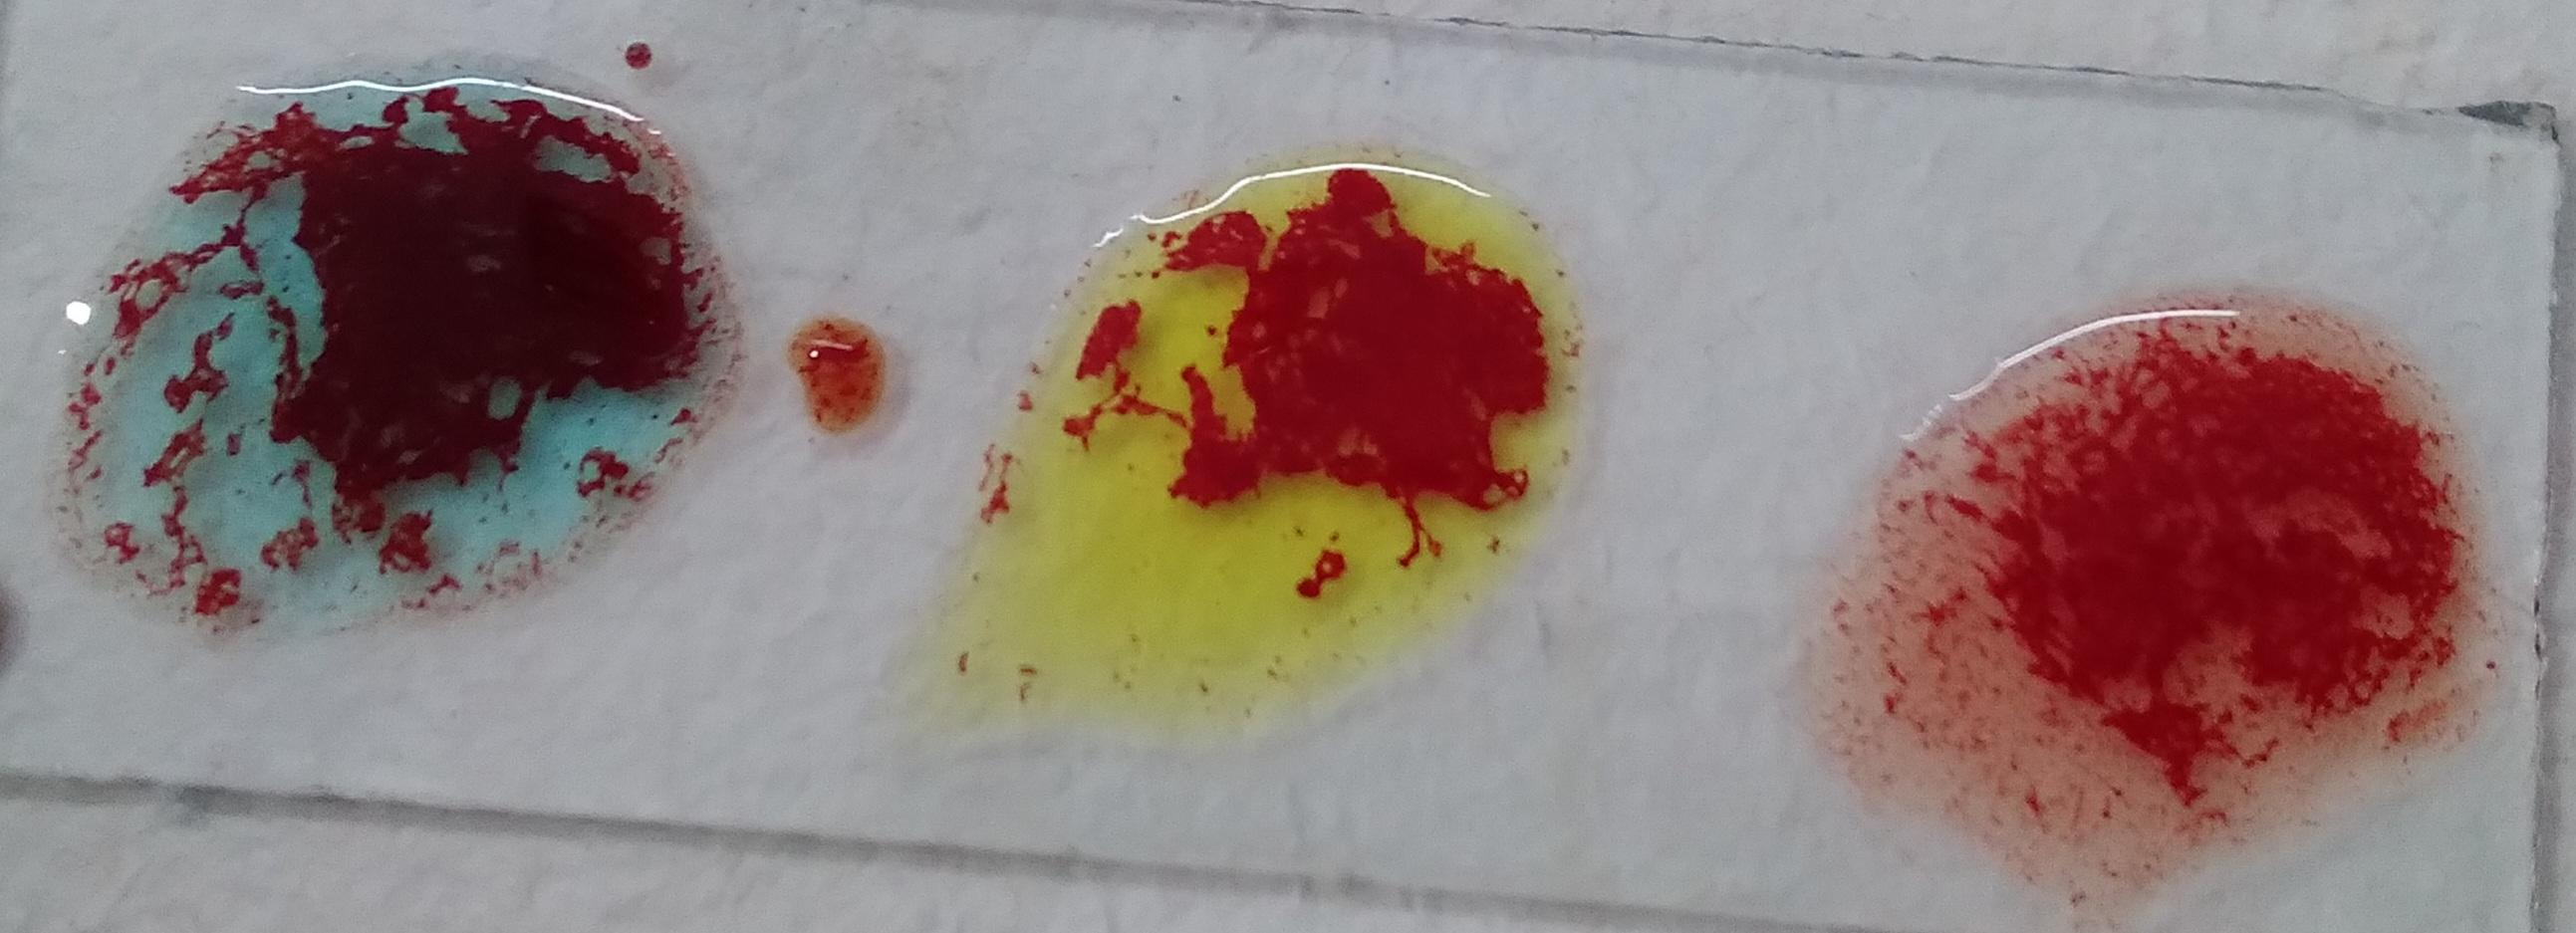A: (1835, 310, 2523, 861)
B: (1005, 182, 1559, 757)
D: (67, 23, 720, 627)
